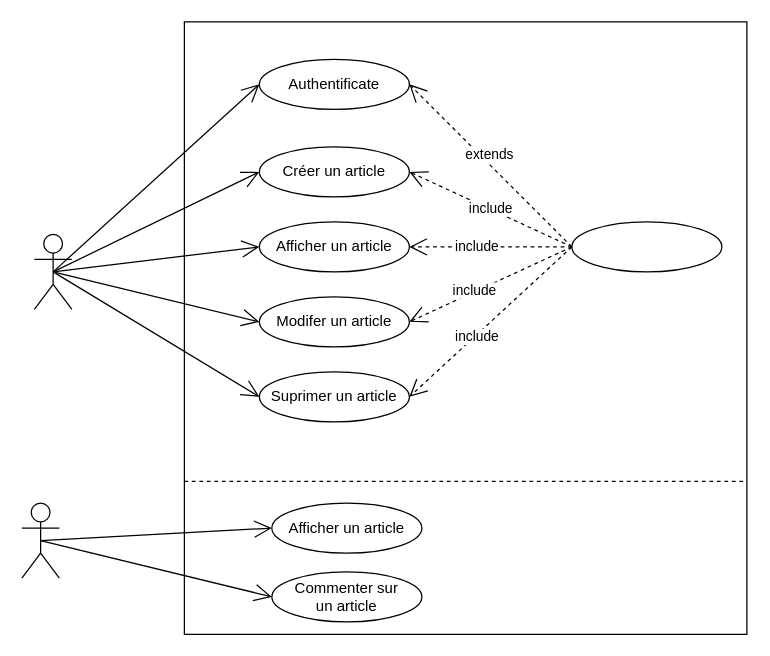
This 770x656 diagram has some shape labels left out. Here are the shapes that lost their labels. From the top down, the box of each, then its label:
(571, 221, 722, 272): Authentification
(33, 233, 72, 309): Admin
(21, 502, 59, 578): User
